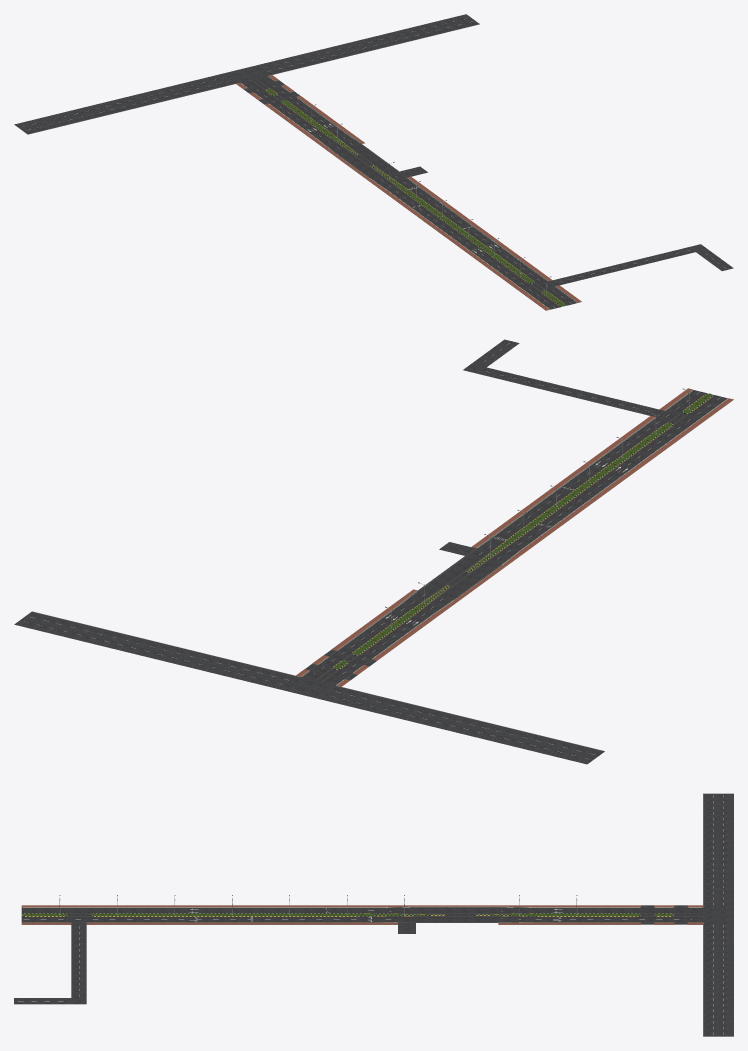
File: set_airroad.glb
3 views of the same model, one above another, from view 1: azimuth 30°, elevation 25°; view 2: azimuth 150°, elevation 25°; view 3: azimuth 270°, elevation 25° (orthographic). The views are drawn at different scales.
Parts seen in each view (by area): view 1: AR_Road; view 2: AR_Road; view 3: AR_Road.
Boxes of the visible parts, bbox=[...] form: AR_Road: bbox=[14, 14, 733, 310]; AR_Road: bbox=[14, 339, 733, 764]; AR_Road: bbox=[14, 793, 733, 1036].
Bounding box in the file's own units: 300 × 10.08 × 376.
Materials: 14 (7 with a texture image).
